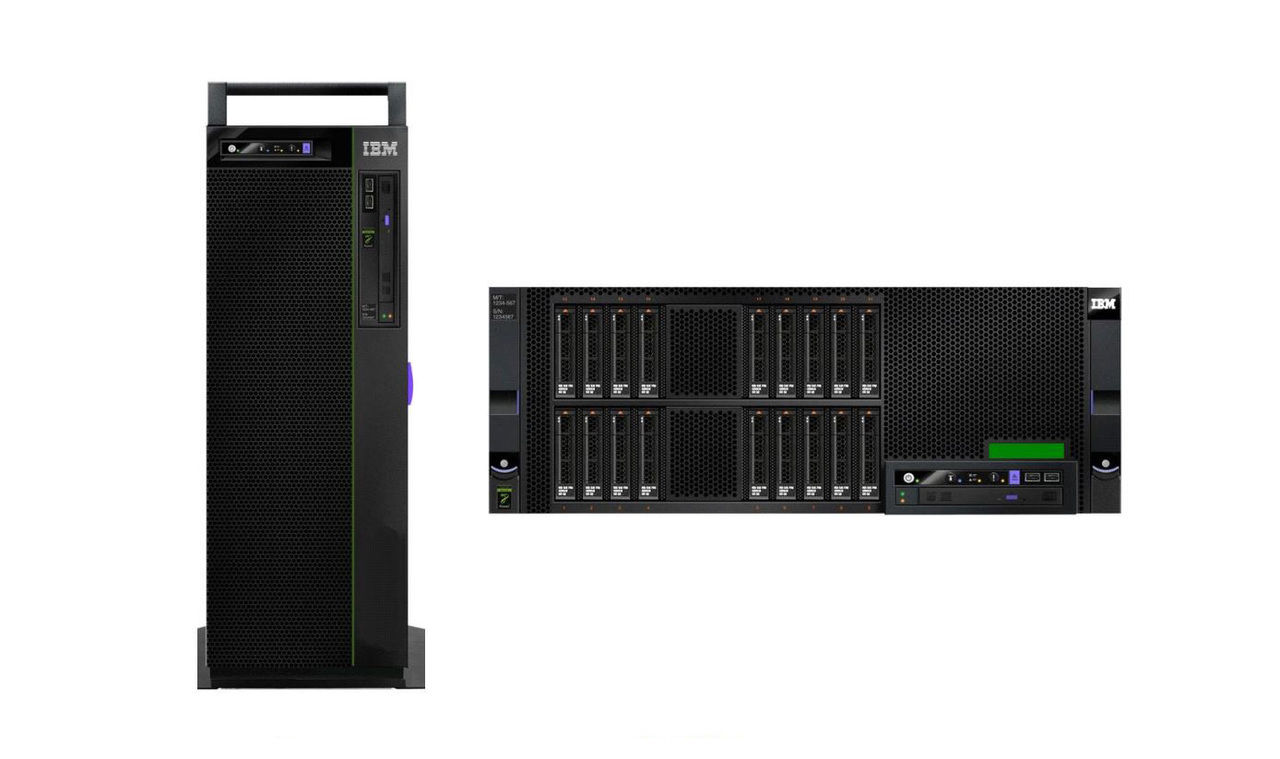ibm-server: (471, 270, 1139, 535), (177, 69, 449, 698)
